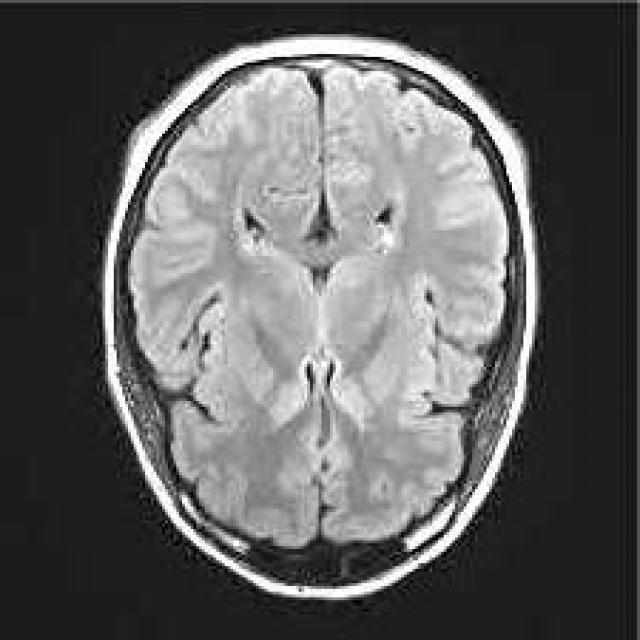No_Tumor: (103, 38, 538, 599)
